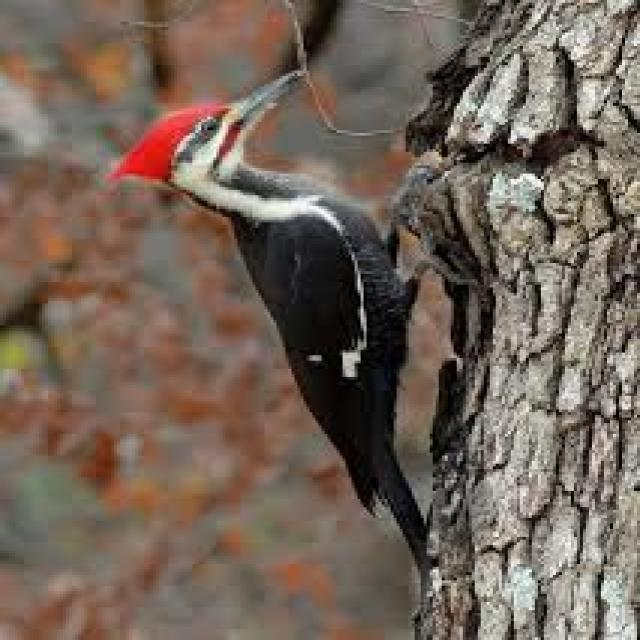Woodpecker: (134, 59, 471, 576)
